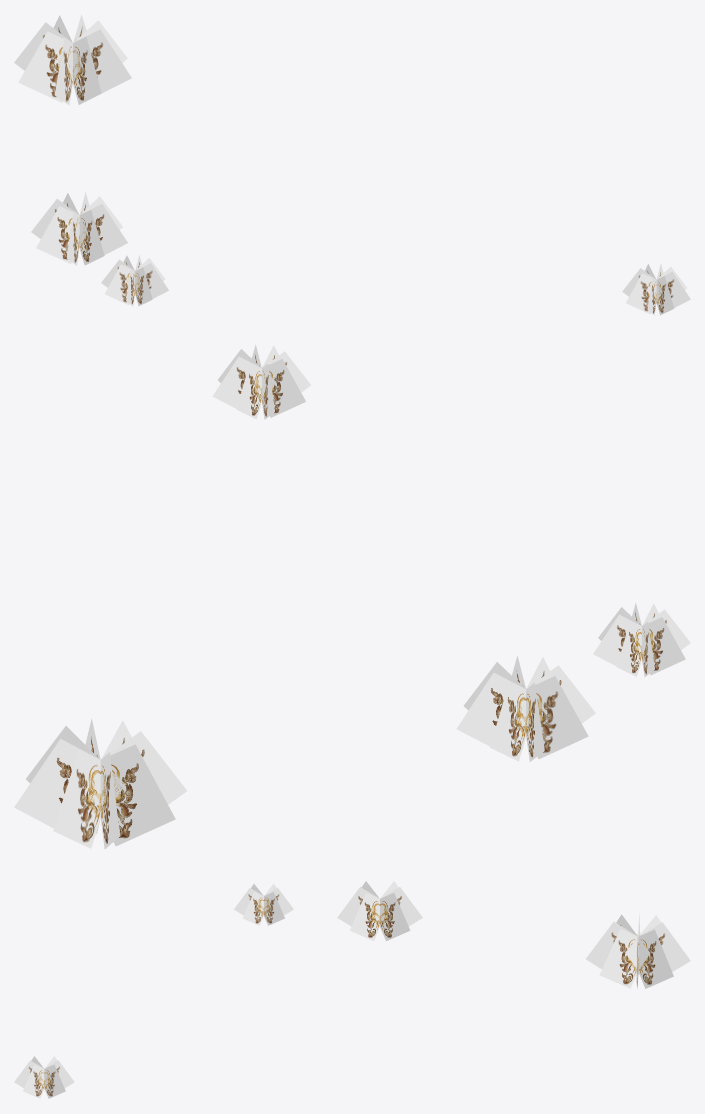
The model's file is Art_Decor.glb.
3 renders of one model, top to bottom at view 1: azimuth 30°, elevation 25°; view 2: azimuth 150°, elevation 25°; view 3: azimuth 270°, elevation 25°, orthographic. The views are drawn at different scales.
Visible parts, largest first — view 1: Art_decor_01.002, Art_decor_01.003, Art_decor_01, Art_decor_01.001; view 2: Art_decor_01.002, Art_decor_01.003, Art_decor_01, Art_decor_01.001; view 3: Art_decor_01.002, Art_decor_01.003, Art_decor_01, Art_decor_01.001.
Part boxes in pixels (x1,y1,x2,y2): Art_decor_01.002: (14, 14, 131, 104); Art_decor_01.003: (31, 192, 127, 265); Art_decor_01: (622, 263, 690, 315); Art_decor_01.001: (101, 255, 168, 306); Art_decor_01.002: (14, 718, 186, 849); Art_decor_01.003: (456, 655, 595, 761); Art_decor_01: (212, 344, 310, 419); Art_decor_01.001: (593, 602, 690, 676); Art_decor_01.002: (586, 914, 690, 989); Art_decor_01.003: (337, 881, 422, 941); Art_decor_01: (14, 1056, 74, 1098); Art_decor_01.001: (234, 884, 293, 925).
Size of what is drawn, in the model's own units: 18.37 by 3.49 by 27.74.
Materials: 1 (1 with a texture image).
